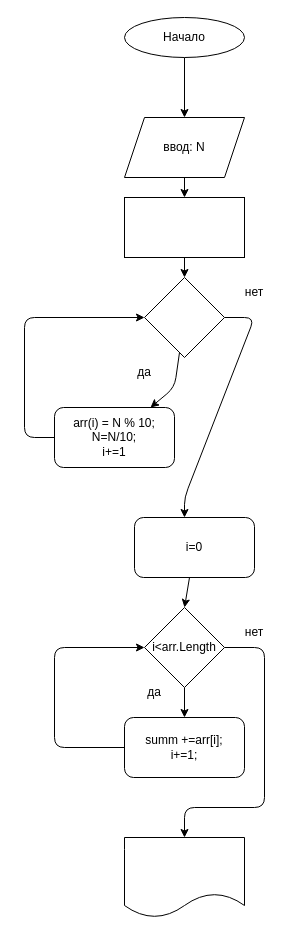
Some shapes in this 302 by 935 pixel diagram are drawn without their labels. Each missing label, with the box of its shape:
arr [N]; i=0; summ =0;: (124, 196, 244, 258)
N>0: (144, 276, 224, 358)
вывод: summ: (124, 836, 244, 918)
